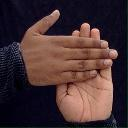hand: (19, 9, 119, 86), (55, 22, 113, 121)
